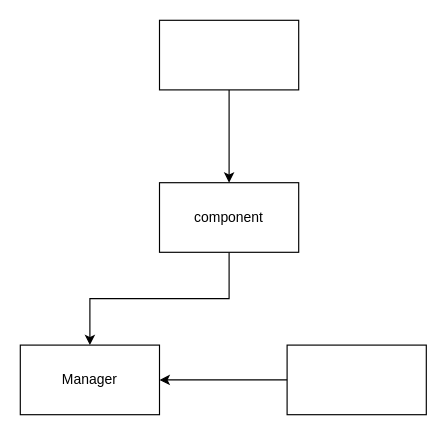
Image size: 447x435. Some labels were removed from this diagram. Each missing label, with the centre of its shape:
helper: the point at 356,379
类设计: the point at 228,54
